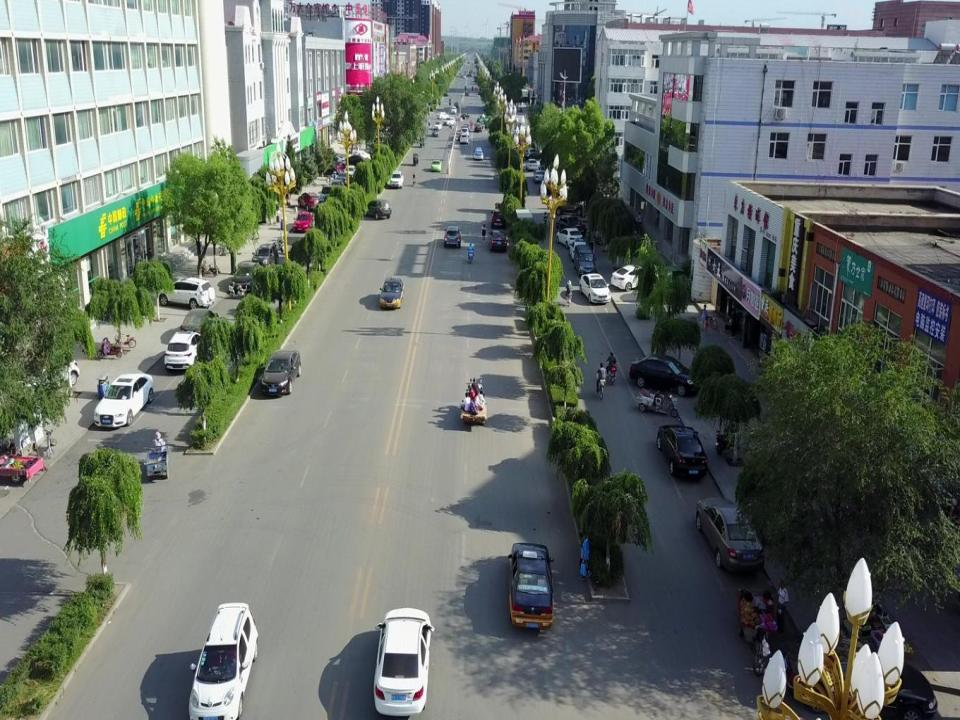car: (804, 639, 942, 717), (187, 601, 259, 720), (374, 607, 434, 716), (696, 497, 764, 571), (508, 542, 555, 634), (92, 372, 154, 430), (629, 356, 703, 396), (656, 424, 708, 480), (30, 351, 80, 392), (260, 348, 301, 396), (157, 278, 215, 310), (164, 331, 203, 372), (182, 308, 220, 342), (578, 273, 611, 306), (610, 264, 651, 290), (379, 276, 405, 308), (233, 261, 263, 287), (553, 195, 586, 215), (557, 215, 587, 237), (360, 200, 392, 220), (291, 210, 317, 233), (557, 228, 583, 248), (569, 239, 595, 257), (442, 225, 462, 247), (297, 193, 321, 210), (489, 231, 508, 252), (491, 206, 506, 228), (318, 184, 338, 200), (343, 156, 366, 168), (349, 150, 372, 162), (524, 145, 543, 159), (329, 180, 345, 196), (390, 170, 404, 188), (336, 174, 352, 186), (532, 170, 548, 182), (473, 146, 484, 161), (344, 165, 356, 178), (430, 159, 442, 172), (526, 160, 538, 170), (443, 118, 455, 127), (437, 112, 449, 120), (460, 127, 469, 137), (460, 135, 469, 144), (474, 123, 482, 133), (434, 120, 442, 130), (431, 128, 440, 136), (450, 105, 457, 114), (454, 102, 458, 107)
van: (574, 245, 596, 275), (252, 245, 279, 267)
